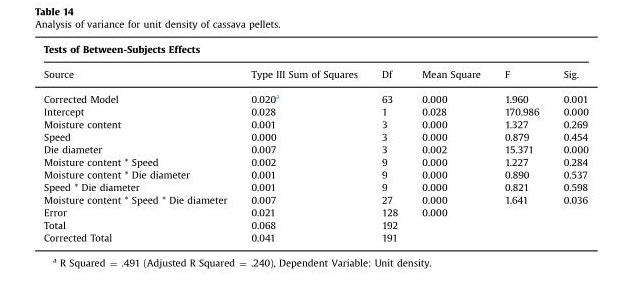table: (43, 42, 587, 242)
table column: (43, 42, 238, 242), (238, 42, 369, 242), (409, 42, 491, 242), (491, 42, 550, 242), (369, 42, 409, 242), (550, 42, 587, 242)
table column header: (43, 42, 587, 85)
table row: (43, 61, 587, 85), (43, 42, 587, 61), (43, 85, 587, 104), (43, 104, 587, 117), (43, 117, 587, 130), (43, 142, 587, 155), (43, 167, 587, 180), (43, 192, 587, 205), (43, 205, 587, 218), (43, 130, 587, 142), (43, 155, 587, 167), (43, 180, 587, 192), (43, 218, 587, 230), (43, 230, 587, 242)
table spanning cell: (43, 42, 587, 61)
